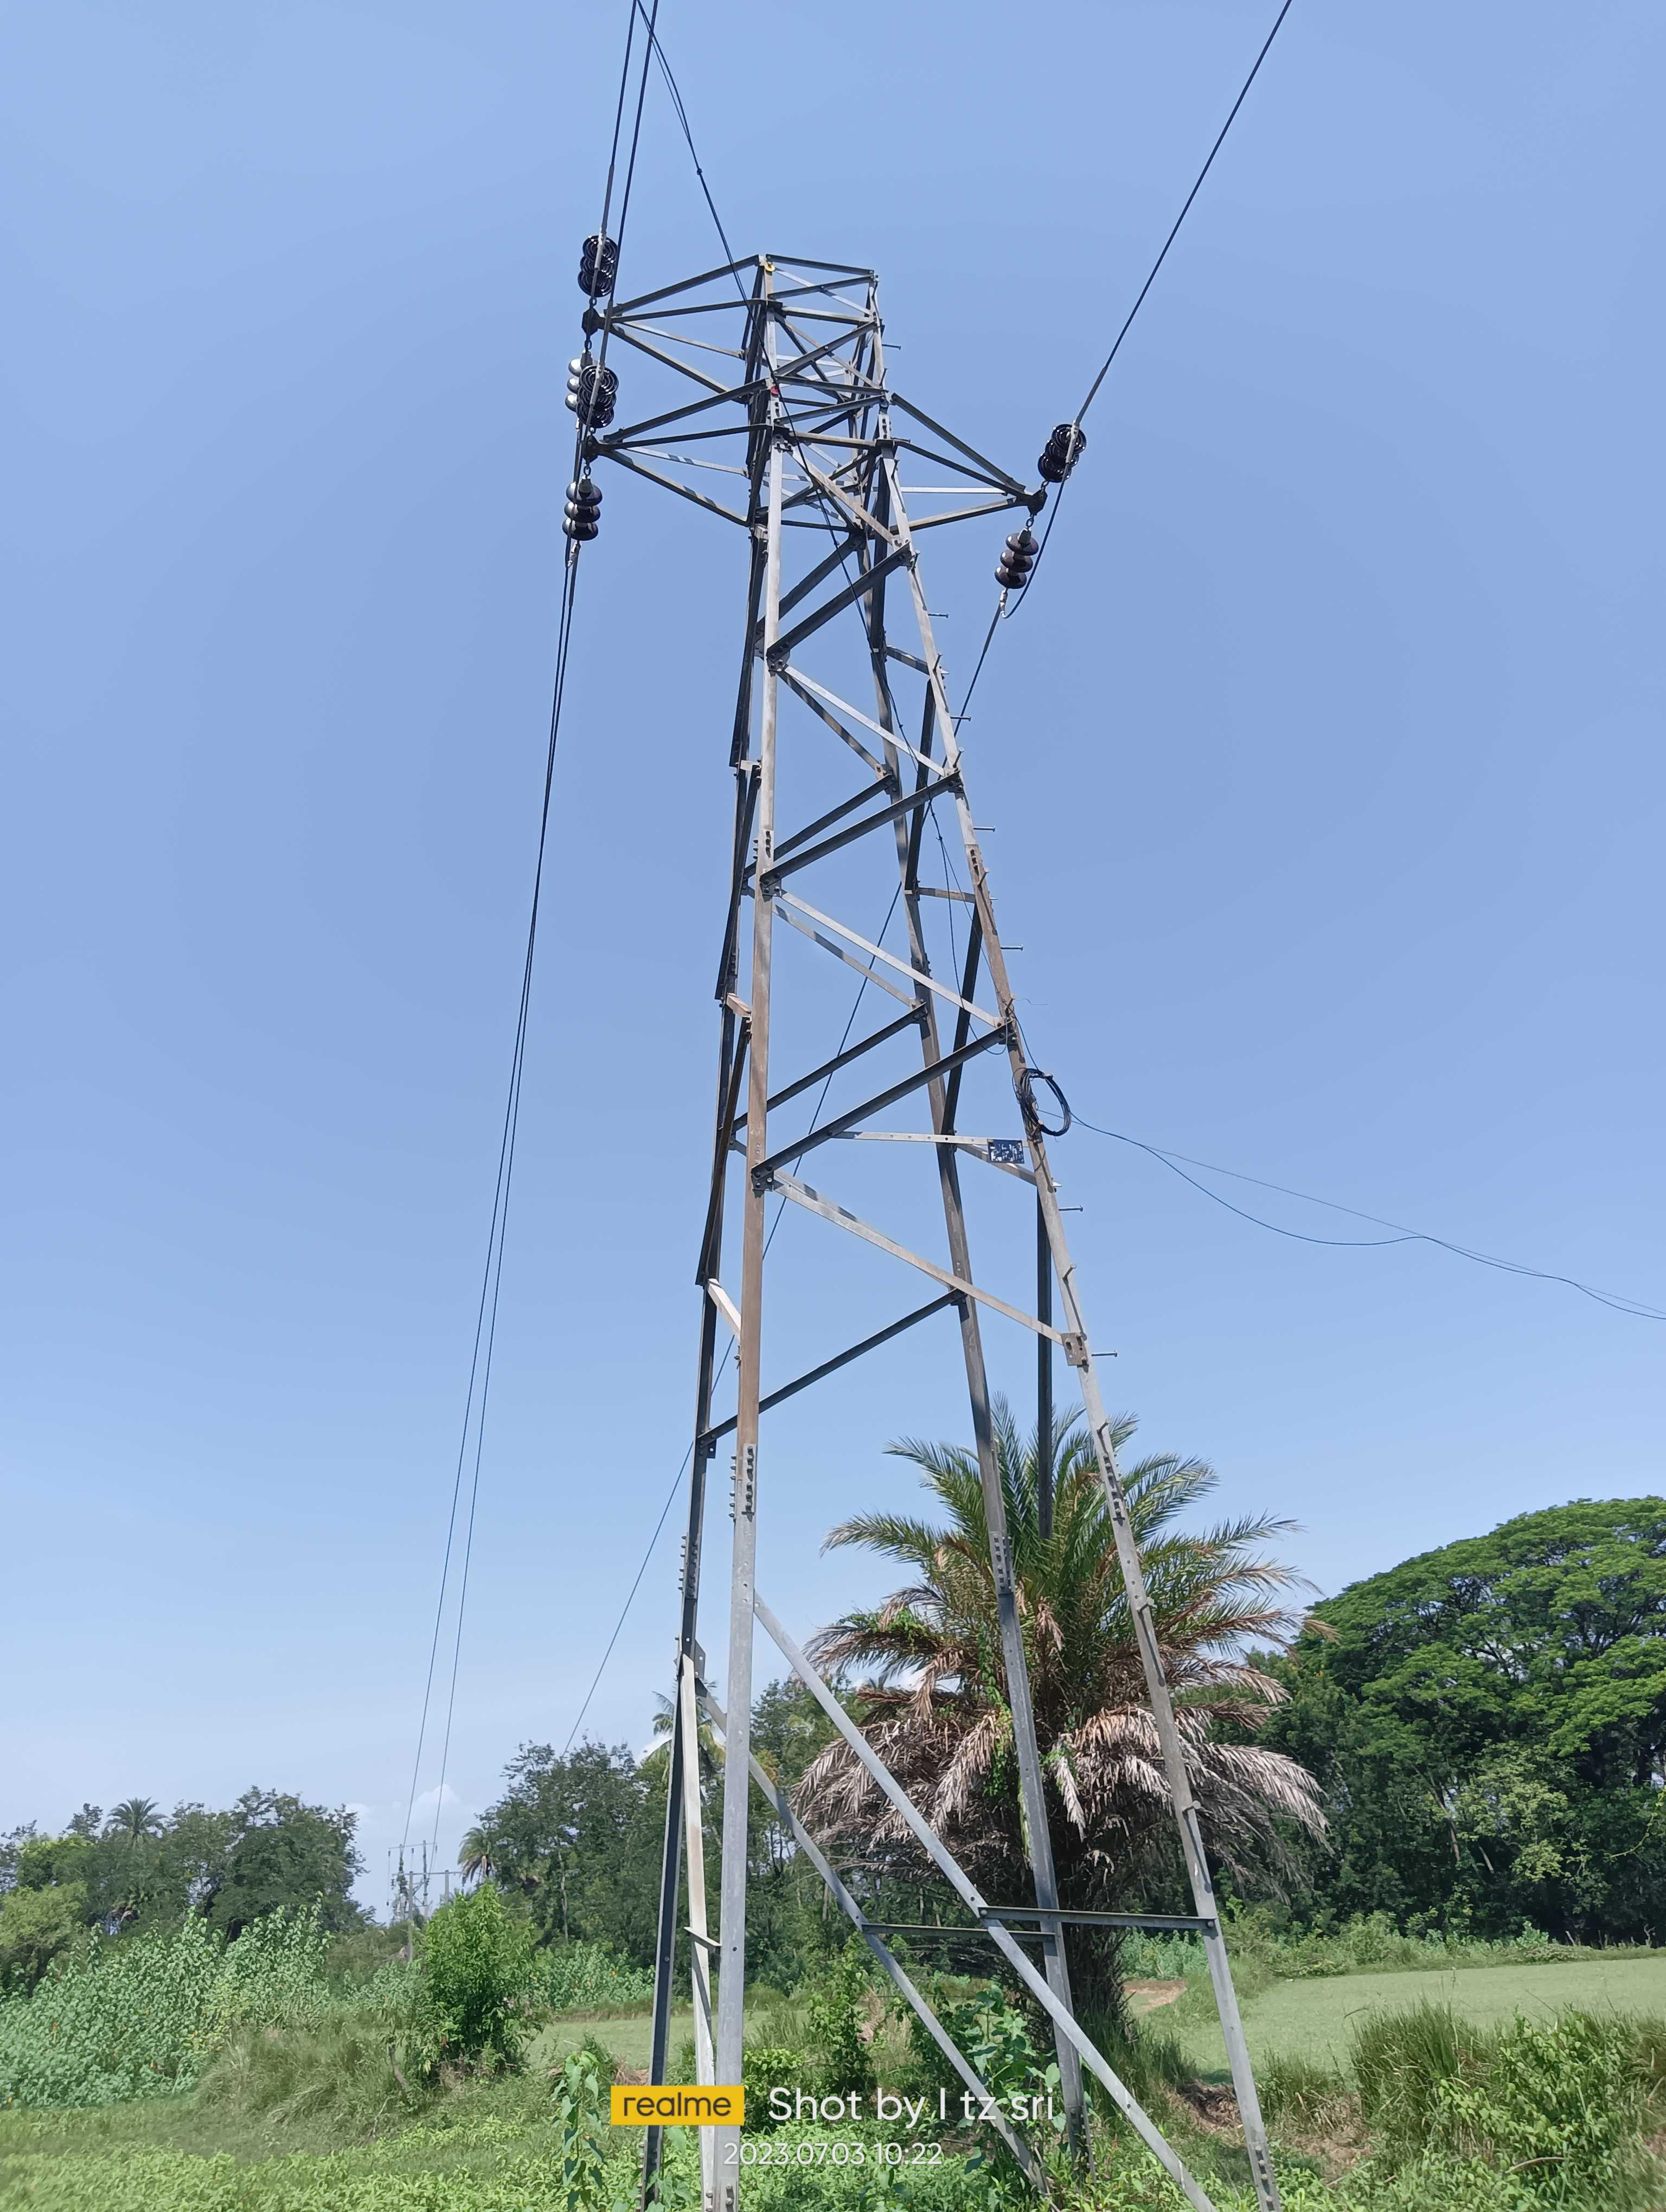GSM Antenna: (539, 245, 1255, 2039)
